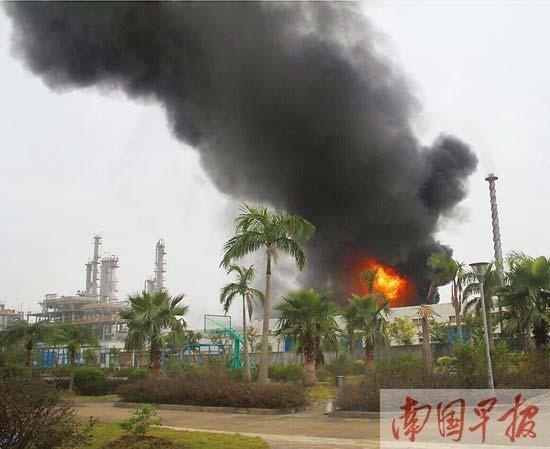fire: (363, 260, 405, 303)
